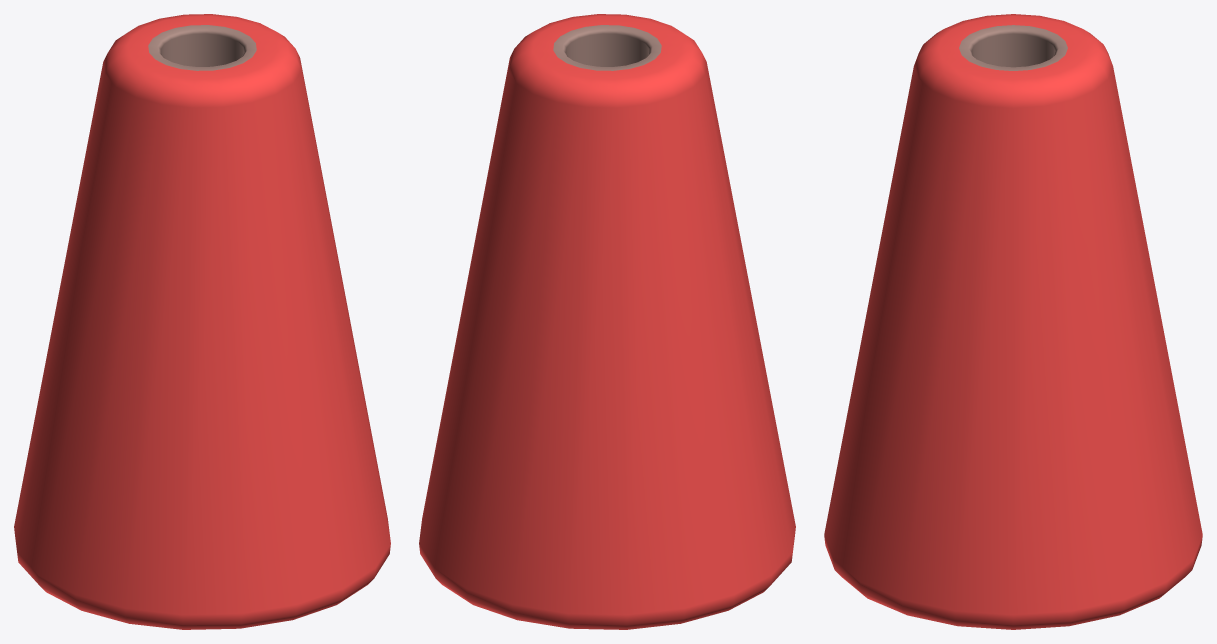
File: Public_19_Skein_of_thread_7.glb
3 renders of one model, left to right at view 1: azimuth 30°, elevation 25°; view 2: azimuth 150°, elevation 25°; view 3: azimuth 270°, elevation 25°, orthographic.
Visible parts, largest first — view 1: Public_19_Skein_of_thread_7; view 2: Public_19_Skein_of_thread_7; view 3: Public_19_Skein_of_thread_7.
Boxes of the visible parts, x1=… form: Public_19_Skein_of_thread_7: x1=14, y1=14, x2=390, y2=629; Public_19_Skein_of_thread_7: x1=419, y1=14, x2=795, y2=629; Public_19_Skein_of_thread_7: x1=824, y1=14, x2=1202, y2=629.
Bounding box in the file's own units: 0.3044 × 0.4513 × 0.3044.
1 material, 1 textured.
